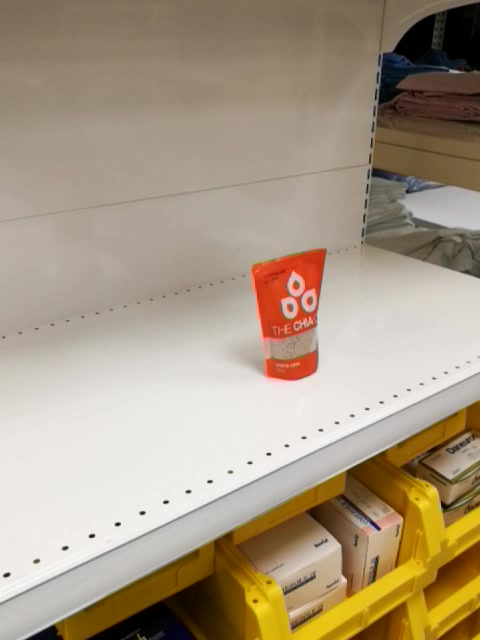whitechia: (249, 245, 329, 383)
